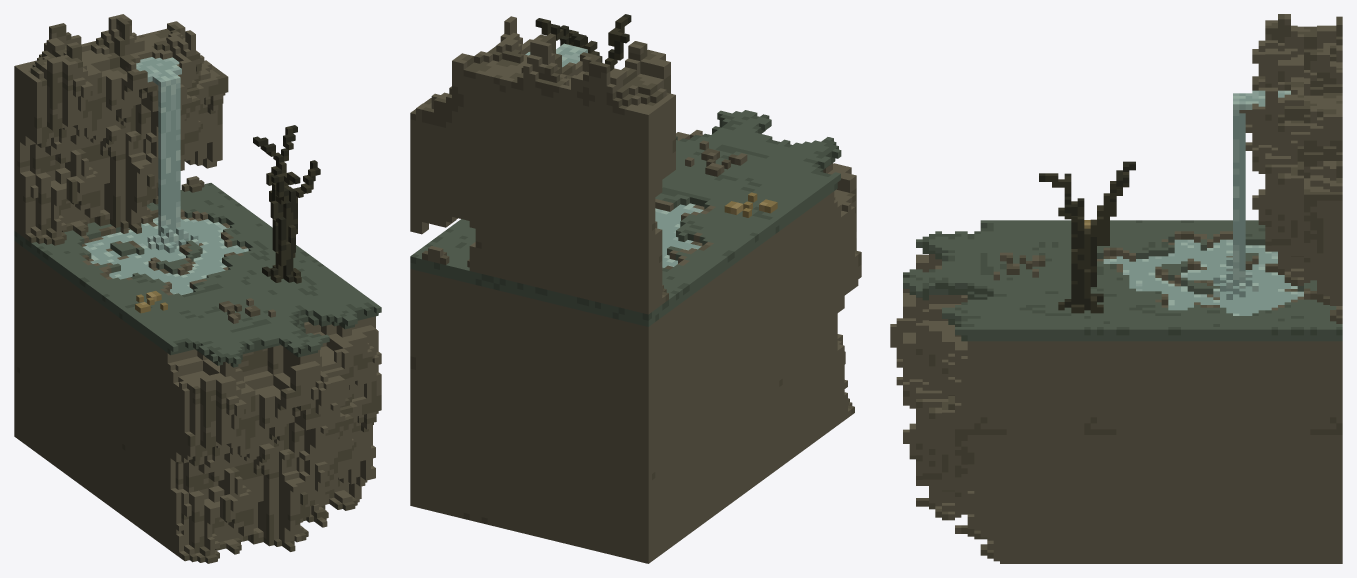
Rendered from mountain_2.obj.
3 renders of one model, left to right at view 1: azimuth 30°, elevation 25°; view 2: azimuth 150°, elevation 25°; view 3: azimuth 270°, elevation 25°, orthographic. The views are drawn at different scales.
Bounding box in the file's own units: 4 × 7.8 × 7.
1 material, 1 textured.
